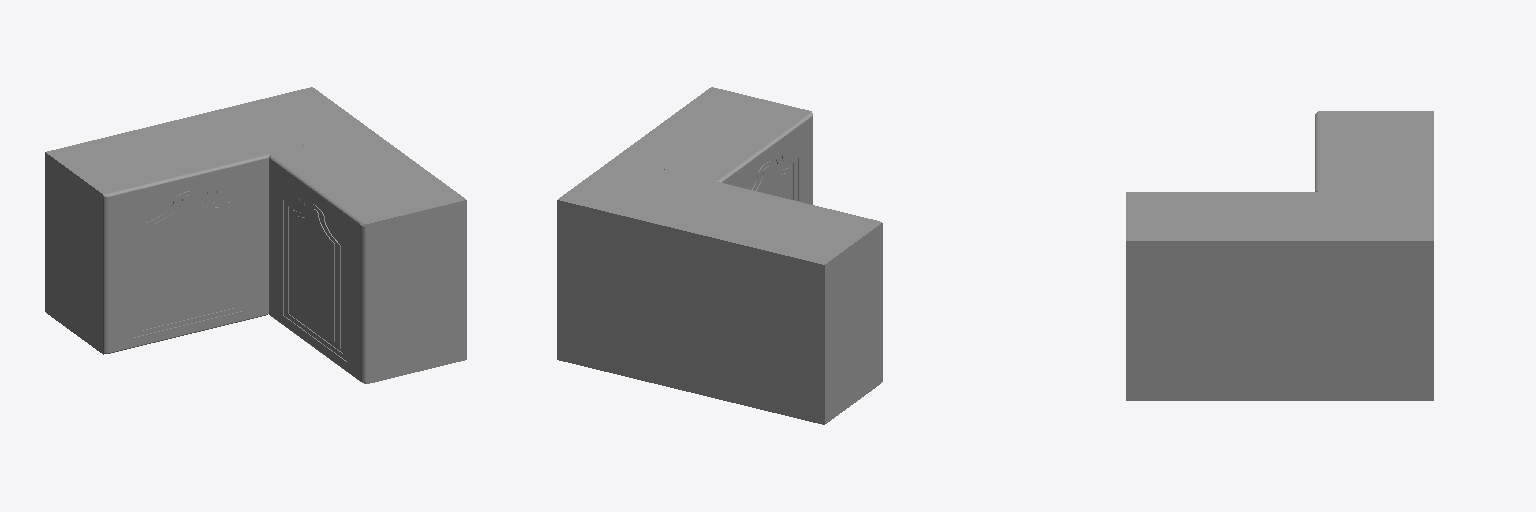
File: corner-base-unit-950.obj
3 renders of one model, left to right at view 1: azimuth 30°, elevation 25°; view 2: azimuth 150°, elevation 25°; view 3: azimuth 270°, elevation 25°, orthographic.
Visible parts, largest first — view 1: Cube.003_Cube.008, Cube.005, Cube.004_Cube.000, Cube.002_Cube.004, Cube.001, Cube_Cube.002, Cube.006; view 2: Cube_Cube.002, Cube.006, Cube.002_Cube.004, Cube.001, Cube.004_Cube.000; view 3: Cube.001, Cube.006, Cube_Cube.002, Cube.005.
Boxes of the visible parts, box(x1,y1,x2,y2) form: Cube.003_Cube.008: box(103, 154, 269, 354); Cube.005: box(366, 199, 466, 383); Cube.004_Cube.000: box(269, 154, 366, 383); Cube.002_Cube.004: box(45, 151, 104, 353); Cube.001: box(271, 129, 464, 222); Cube_Cube.002: box(48, 111, 269, 193); Cube.006: box(213, 87, 368, 153); Cube_Cube.002: box(657, 182, 878, 423); Cube.006: box(557, 158, 713, 383); Cube.002_Cube.004: box(822, 222, 881, 424); Cube.001: box(615, 88, 809, 181); Cube.004_Cube.000: box(716, 111, 812, 204); Cube.001: box(1129, 192, 1318, 400); Cube.006: box(1319, 192, 1433, 400); Cube_Cube.002: box(1319, 112, 1433, 191); Cube.005: box(1126, 192, 1128, 400).
Size of the model in its own units: 304 by 174 by 304.